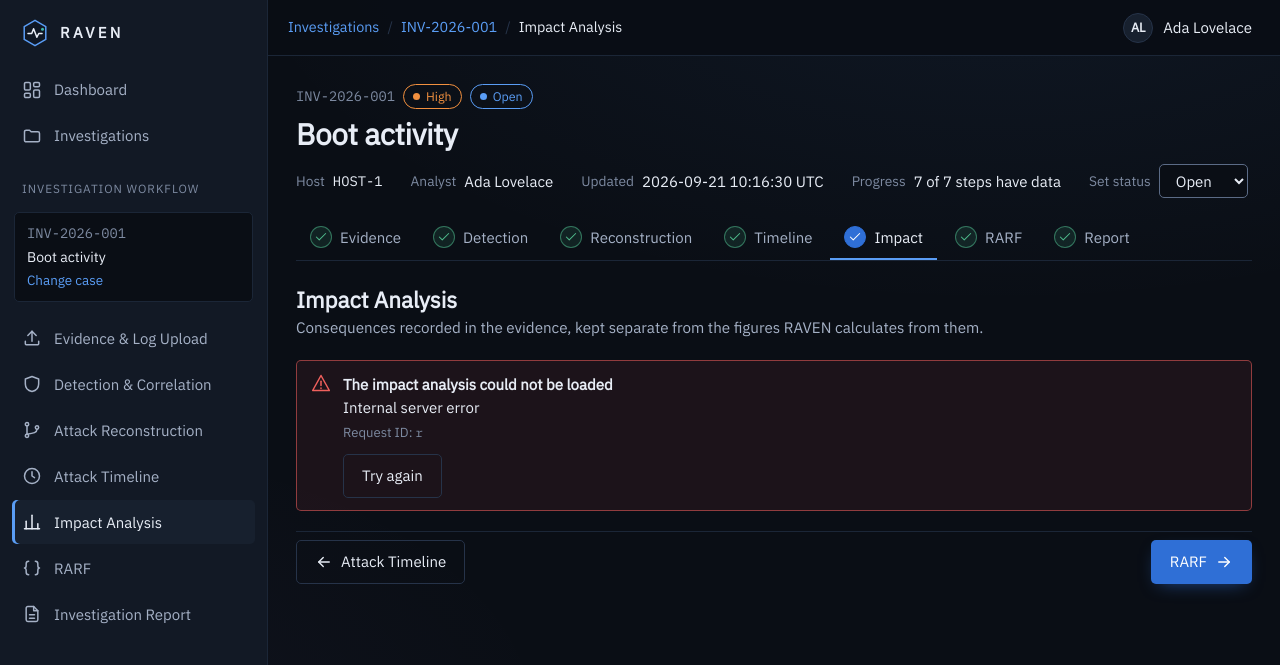
Impact: other states › shows the error with a retry
The width and height of the screenshot is (1280, 665).
Expected: the message shows "The impact analysis could not be loaded", [343,375,613,394]
Click the button "Try again" at coordinates (392, 476), box [343,454,442,498]
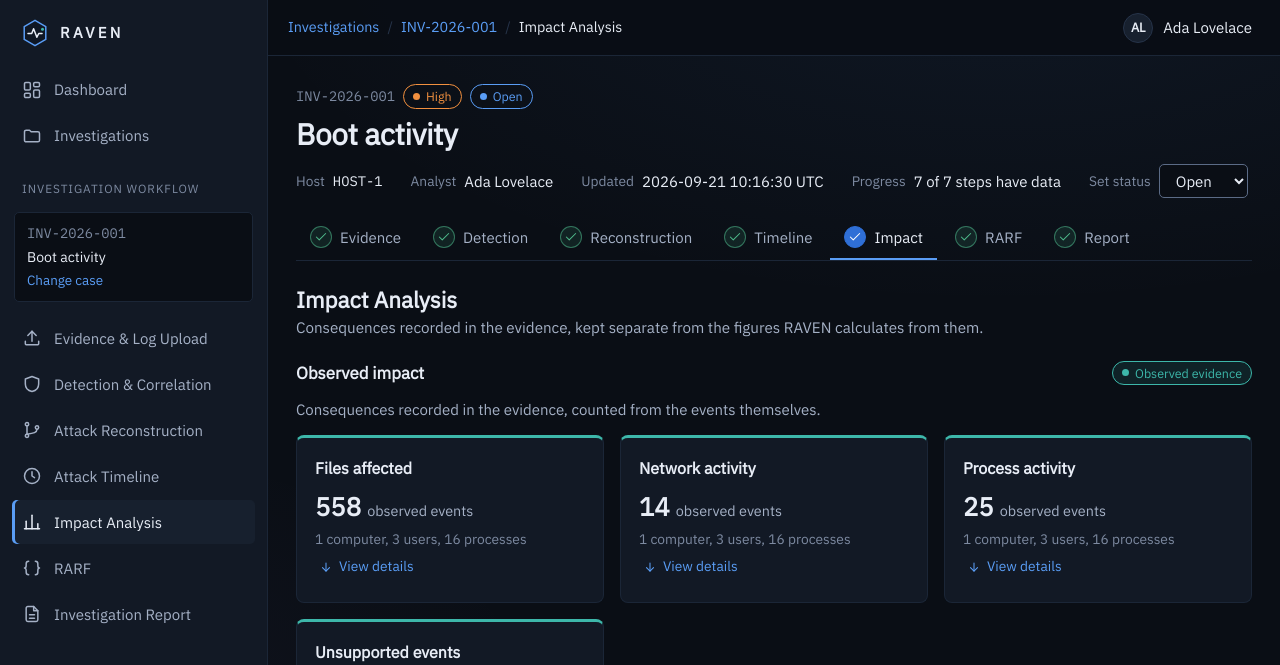
Result: the heading "Observed impact" is shown at [296,360,424,386]
